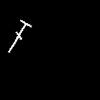double_crochet: (8, 20, 30, 51)
